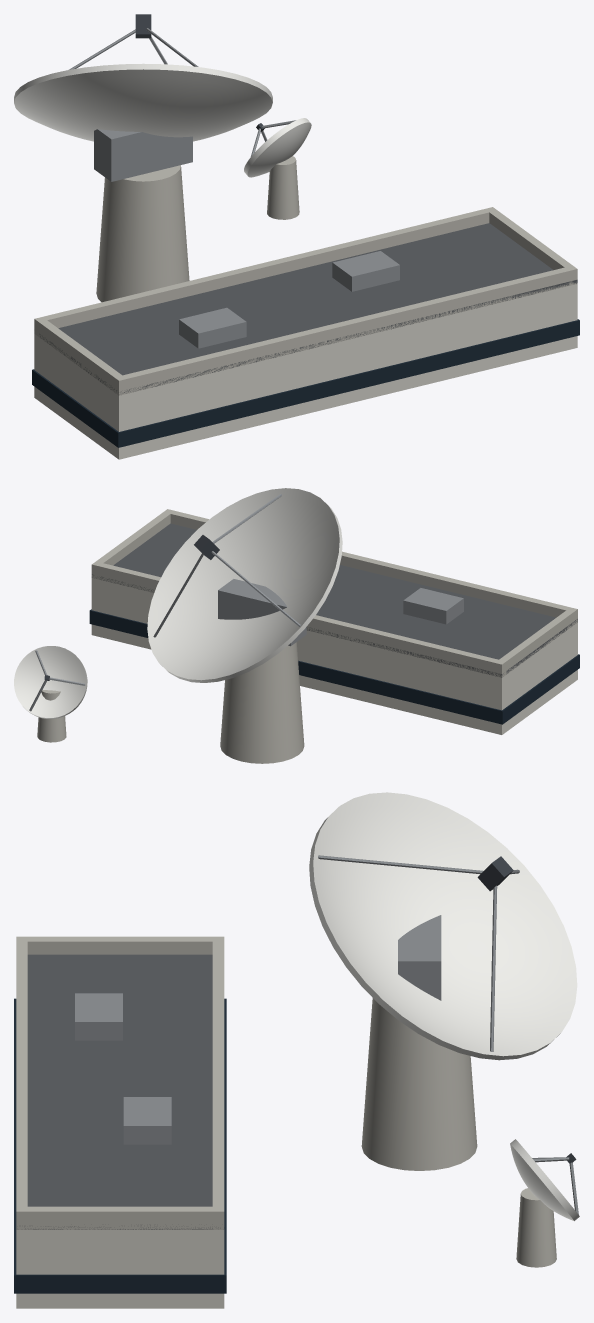
Rendered from tracking.glb.
The picture shows the model from 3 angles, top to bottom: view 1: azimuth 30°, elevation 25°; view 2: azimuth 150°, elevation 25°; view 3: azimuth 270°, elevation 25°; orthographic projection. The views are drawn at different scales.
Visible parts, largest first — view 1: Tracking; view 2: Tracking; view 3: Tracking.
Part boxes in pixels (bbox=[...]): Tracking: bbox=[14, 14, 579, 459]; Tracking: bbox=[14, 488, 579, 763]; Tracking: bbox=[14, 792, 579, 1308].
Size of the model in its own units: 45.3 by 24.52 by 39.15.
